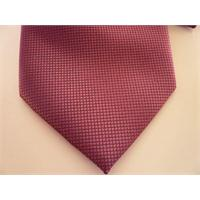tie: (20, 24, 177, 174)
